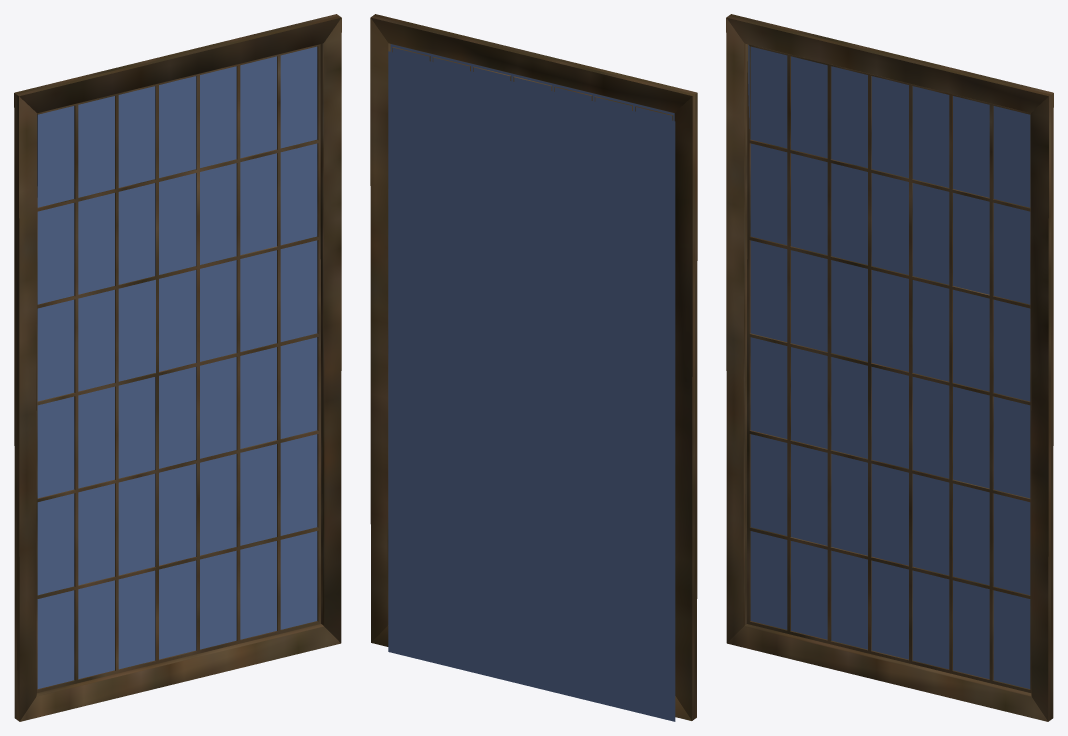
File: window.obj
3 views of the same model, side by side, from view 1: azimuth 30°, elevation 25°; view 2: azimuth 150°, elevation 25°; view 3: azimuth 330°, elevation 25° (orthographic).
Parts seen in each view (by area): view 1: Plane, Line040; view 2: Plane.001_Plane.004, Line040, Plane; view 3: Plane, Line040.
Part boxes in pixels (bbox=[...]): Plane: bbox=[37, 46, 317, 688]; Line040: bbox=[14, 14, 341, 721]; Plane.001_Plane.004: bbox=[388, 51, 675, 721]; Line040: bbox=[370, 14, 697, 720]; Plane: bbox=[390, 44, 674, 120]; Plane: bbox=[748, 45, 1030, 688]; Line040: bbox=[726, 14, 1053, 721].
Bounding box in the file's own units: 112 × 209 × 2.97.
Materials: 2 (1 with a texture image).
